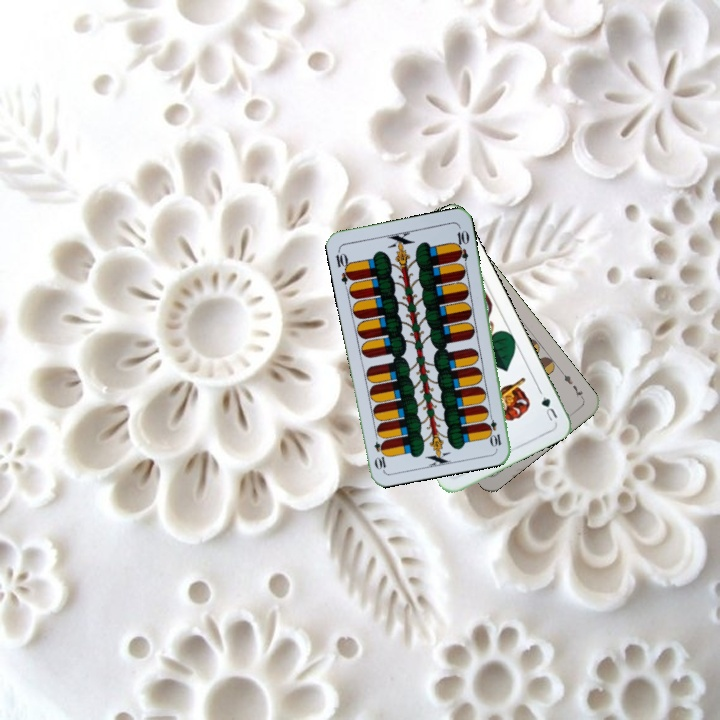E10: (332, 246, 356, 286), (484, 409, 504, 449)
E7: (557, 367, 587, 402)
GU: (535, 387, 560, 424)
